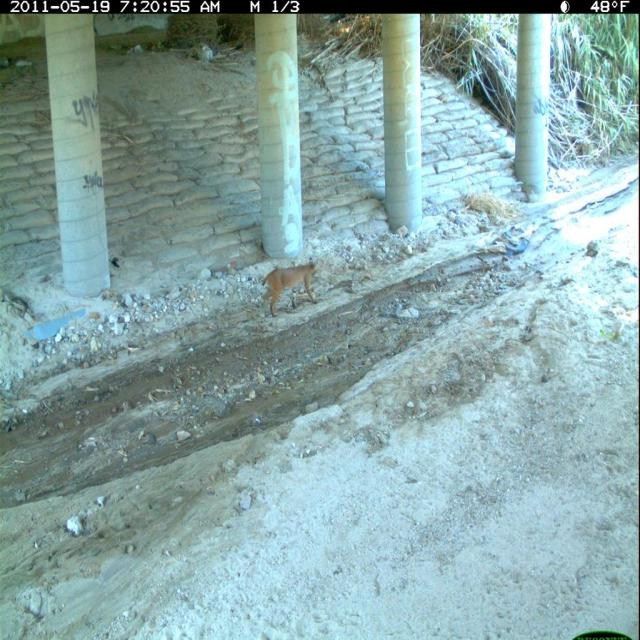bobcat: (260, 260, 322, 320)
